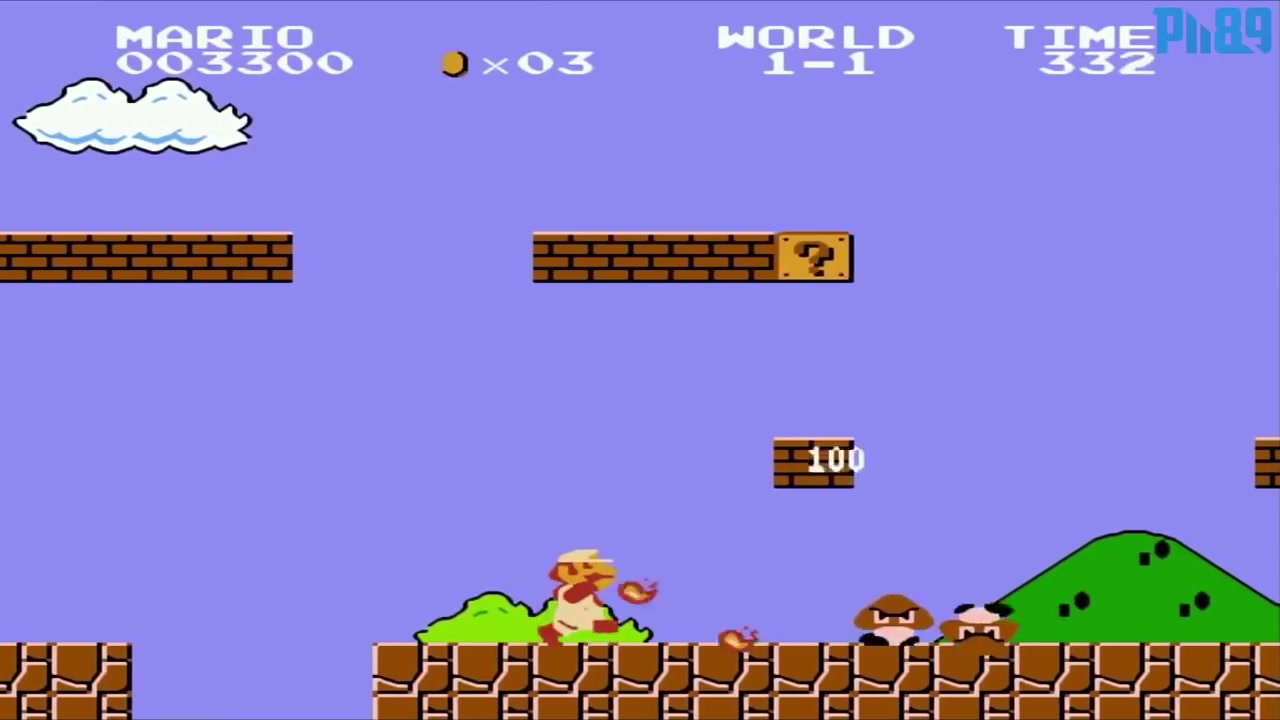mario: (532, 543, 621, 650)
